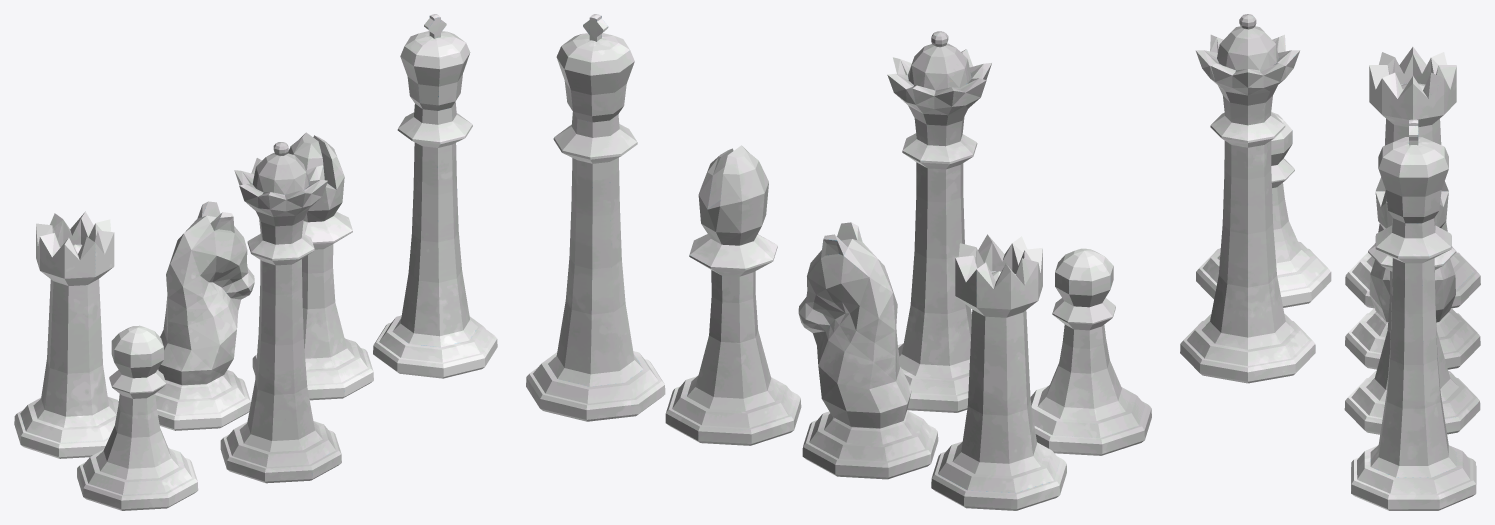
Rendered from Chess.fbx.
3 views of the same model, side by side, from view 1: azimuth 30°, elevation 25°; view 2: azimuth 150°, elevation 25°; view 3: azimuth 270°, elevation 25° (orthographic). The views are drawn at different scales.
Visible parts, largest first — view 1: node_id26, node_id34, node_id36, node_id30, node_id32, node_id28; view 2: node_id26, node_id36, node_id34, node_id30, node_id28, node_id32; view 3: node_id34, node_id26, node_id30, node_id28, node_id32, node_id36.
Boxes of the visible parts, bbox=[...] form: node_id26: bbox=[373, 14, 497, 378]; node_id34: bbox=[220, 142, 341, 483]; node_id36: bbox=[155, 201, 254, 430]; node_id30: bbox=[14, 211, 118, 458]; node_id32: bbox=[77, 325, 198, 510]; node_id28: bbox=[252, 132, 373, 400]; node_id26: bbox=[526, 14, 665, 421]; node_id36: bbox=[798, 222, 938, 479]; node_id34: bbox=[887, 31, 991, 412]; node_id30: bbox=[931, 234, 1066, 510]; node_id28: bbox=[665, 145, 801, 445]; node_id32: bbox=[1030, 248, 1151, 455]; node_id34: bbox=[1180, 14, 1315, 383]; node_id26: bbox=[1351, 119, 1476, 510]; node_id30: bbox=[1345, 47, 1480, 308]; node_id28: bbox=[1344, 177, 1480, 434]; node_id32: bbox=[1196, 112, 1331, 307]; node_id36: bbox=[1345, 259, 1480, 369].
Bounding box in the file's own units: 0.512 × 0.3511 × 0.2618.
6 materials, 6 textured.
